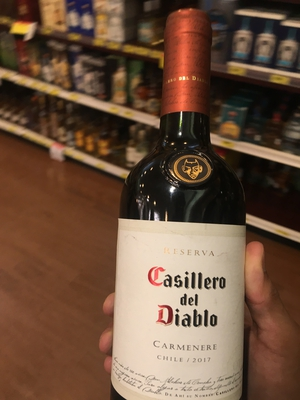casillero del diablo carmenere: (104, 31, 257, 400)
